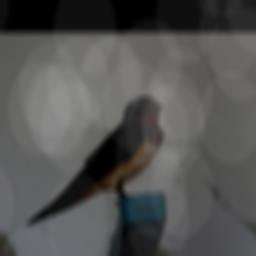Swallow: (24, 93, 168, 228)
